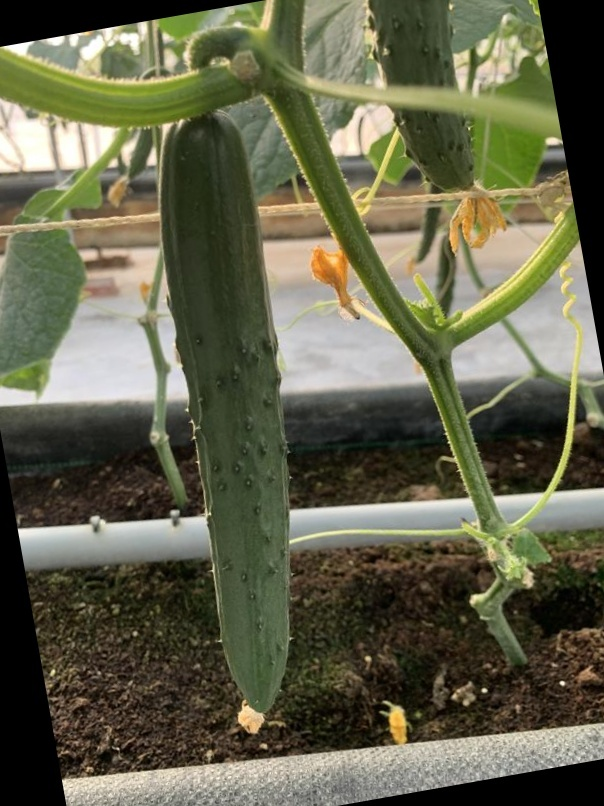mature: (130, 109, 321, 722)
